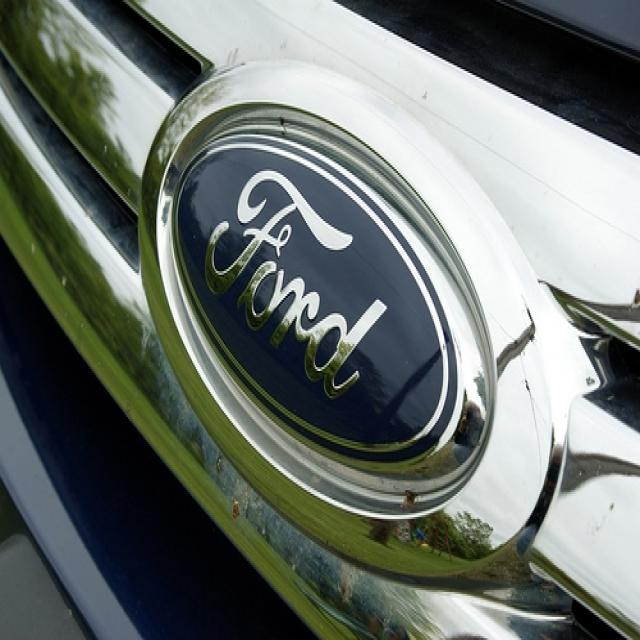ford: (175, 132, 459, 458)
